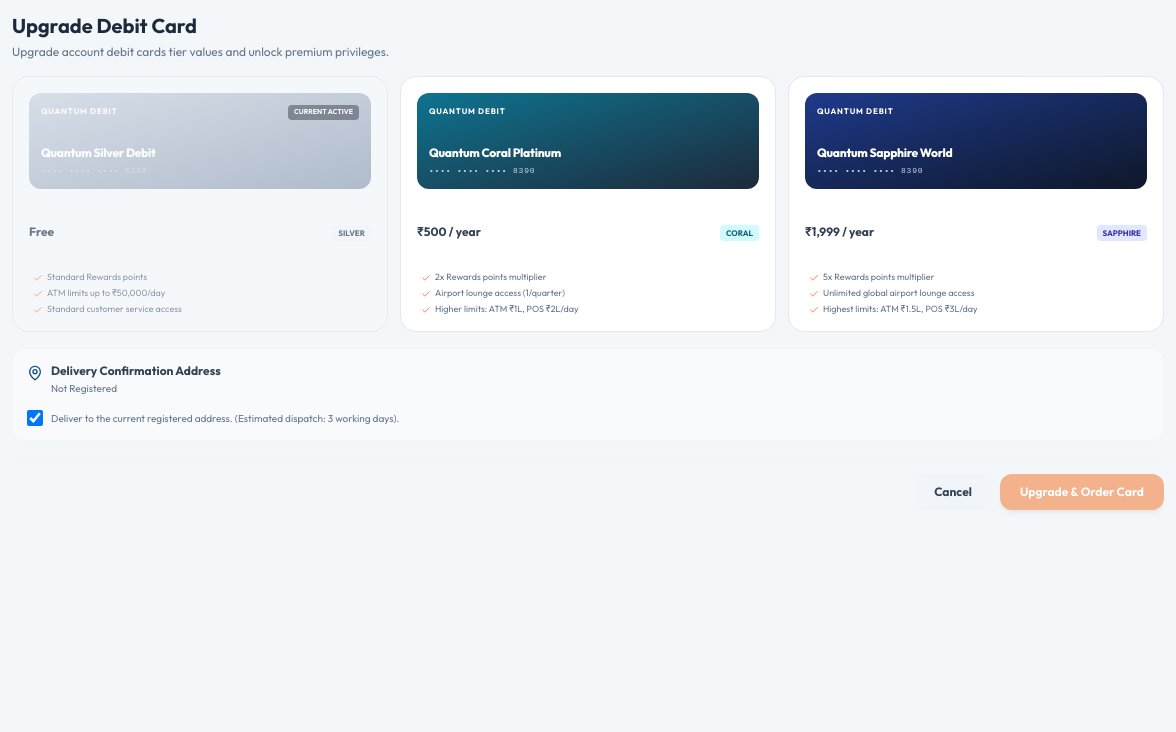
Service Requests Workflows & Modals Integration Tests › should upgrade debit card tiers in UpgradeCardModal
Expected: the text "Quantum Coral Platinum" is shown, left=429, top=145, right=561, bottom=160
# Select premium card card tier
Click the text "Quantum Sapphire World" at [885, 152], box left=817, top=145, right=952, bottom=160
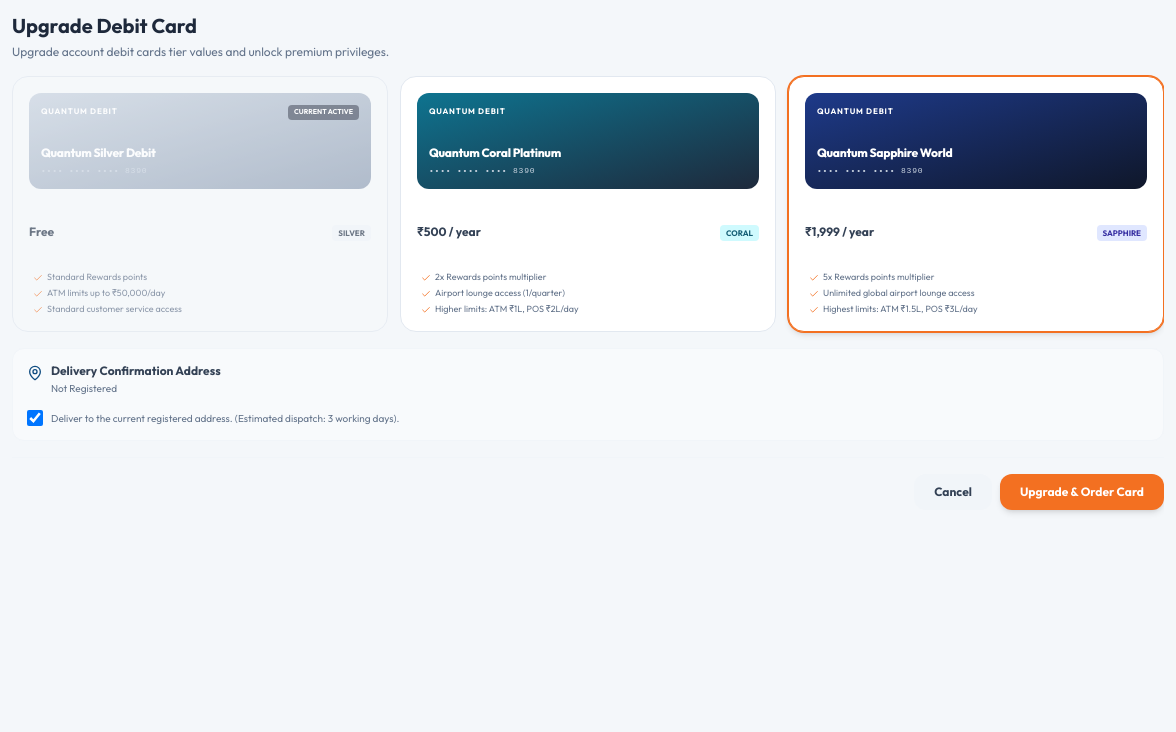
Expected: the checkbox is shown, left=27, top=410, right=43, bottom=426
Click the button "Upgrade & Order Card" at [1082, 492], box left=1000, top=474, right=1164, bottom=510
Wait 1500 ms
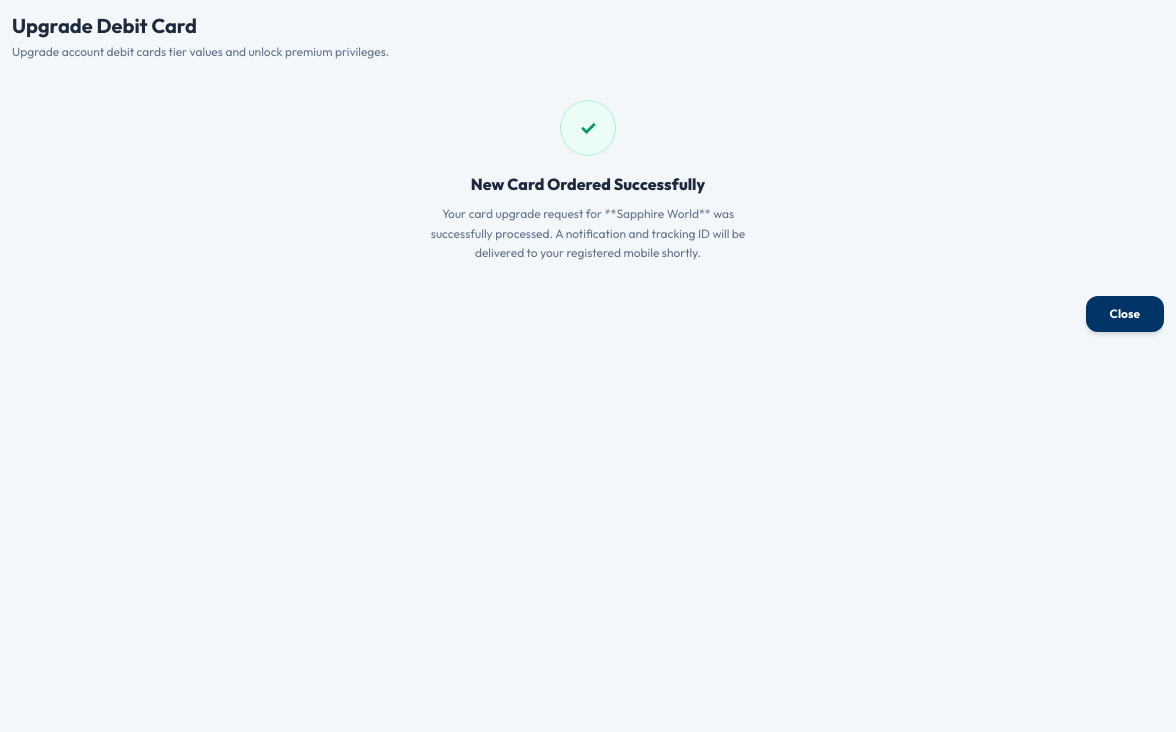
Expected: the heading "New Card Ordered Successfully" is shown, left=471, top=174, right=705, bottom=194
